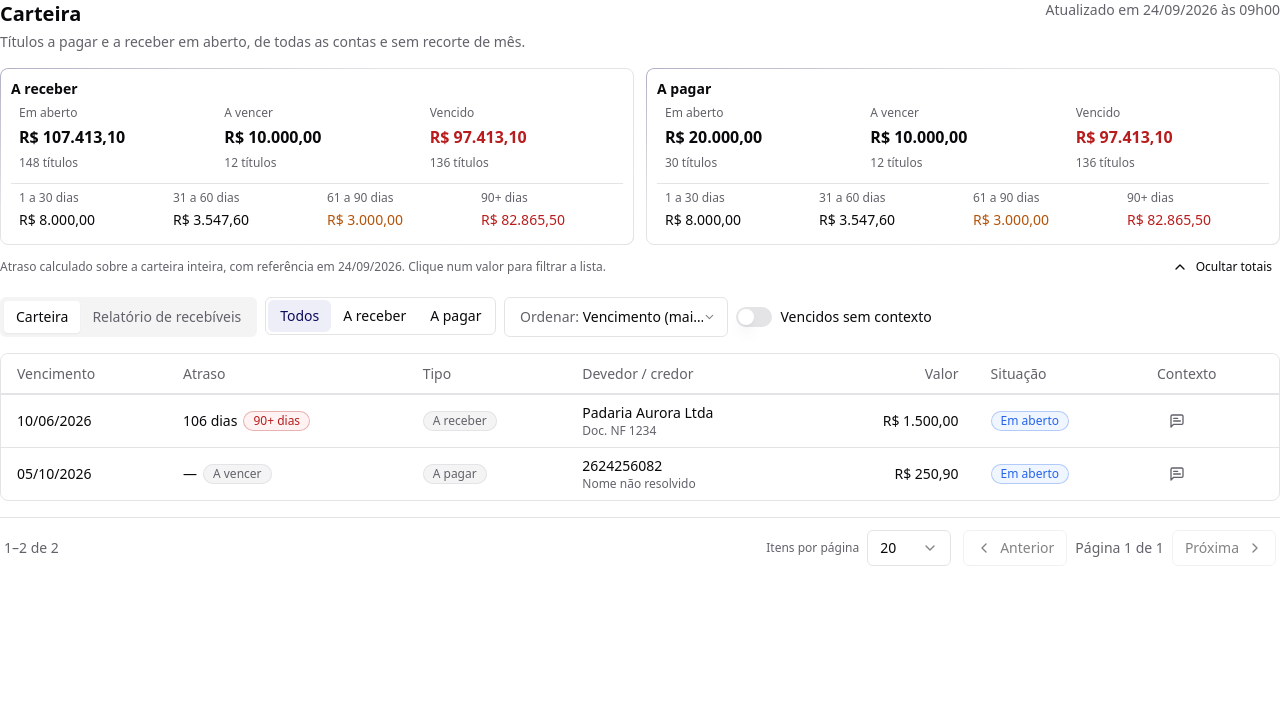
ClientTitlesScreen — contexto do título (Sprint 15 / R1 · R2) › operador do cliente vê o histórico em LEITURA, sem a ação de registrar
Click the button named "Contexto do título 4010" at (1177, 420), box [1157, 404, 1197, 436]
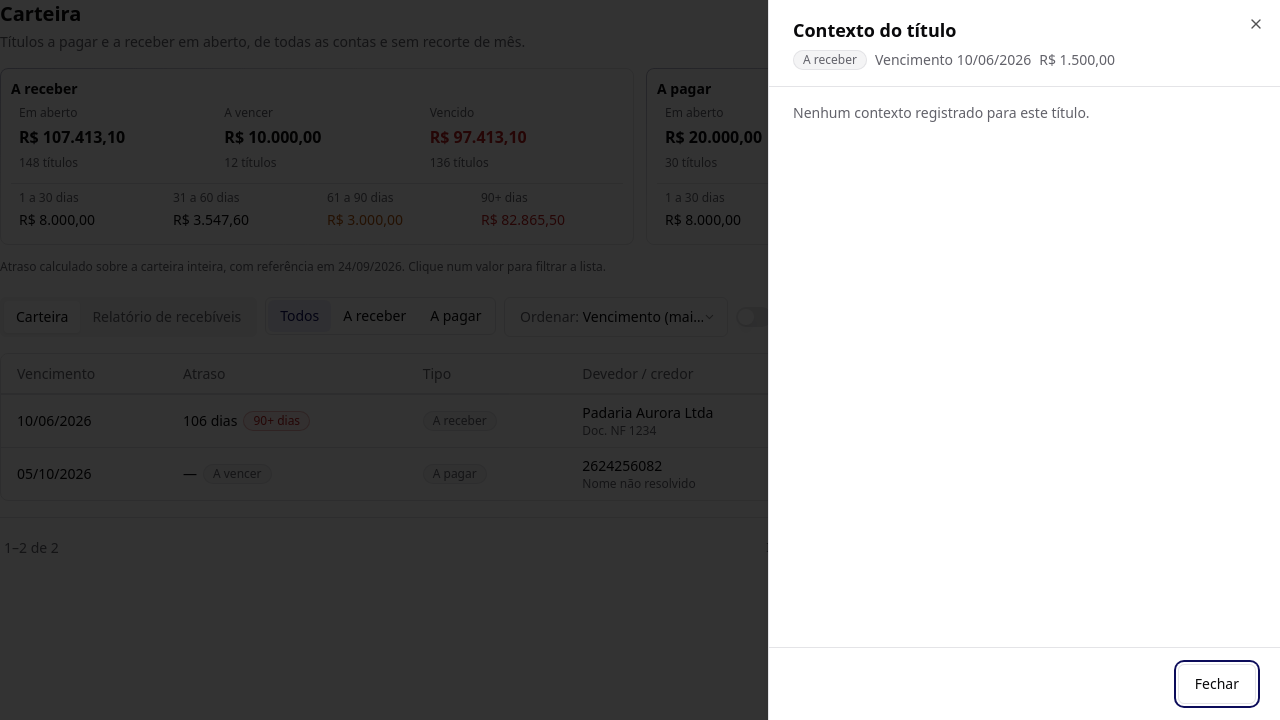
Expected: the heading "Contexto do título" is shown, [793, 18, 956, 42]
Expected: the button with aria-label "Fechar gaveta de contexto" is shown, [1178, 664, 1256, 704]
